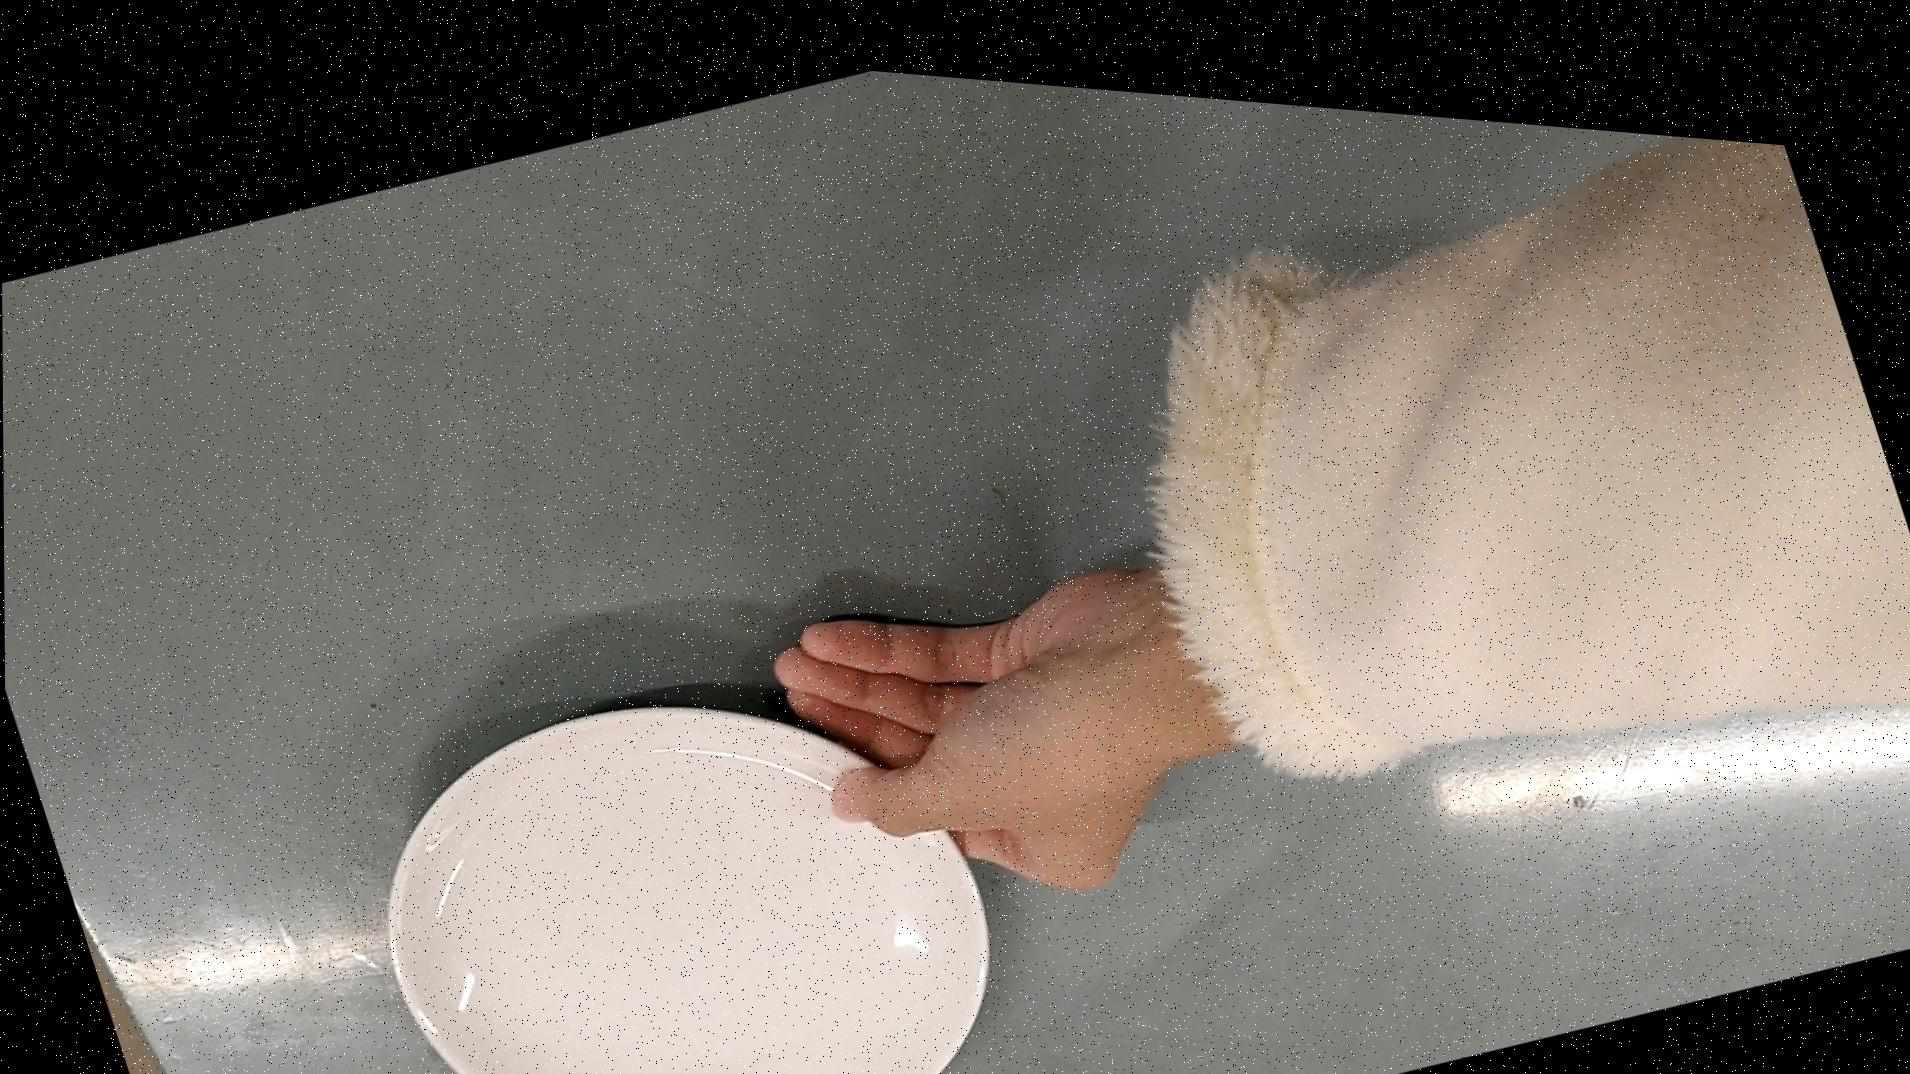plate: (327, 579, 1048, 1074)
